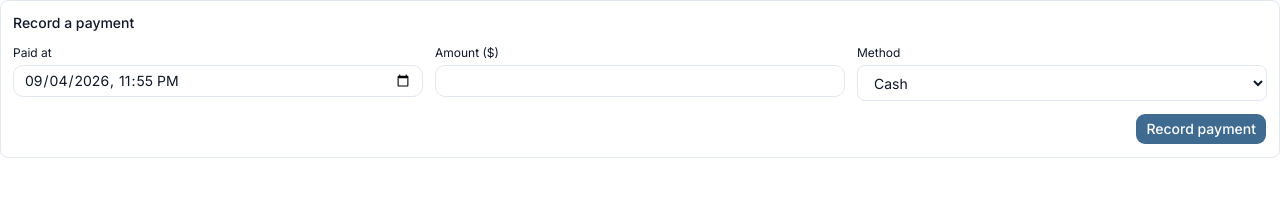
Test: RecordBhphPaymentForm › blocks submit when amount is zero
Type "0" into the number field with test id "record-bhph-payment-amount" at (640, 81), box x1=435 y1=65 x2=845 y2=97
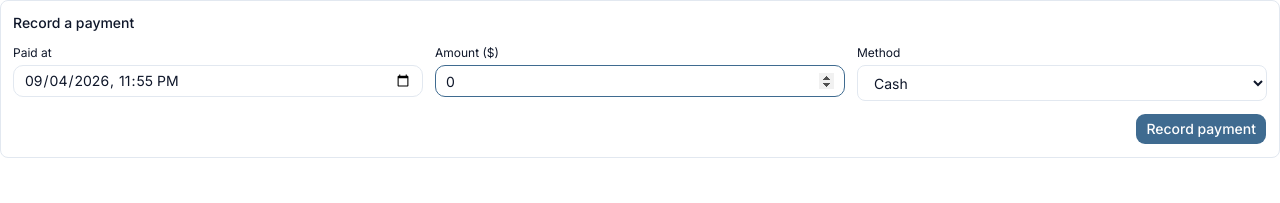
Click the button with test id "record-bhph-payment-submit" at (1201, 129), box x1=1135 y1=113 x2=1267 y2=145
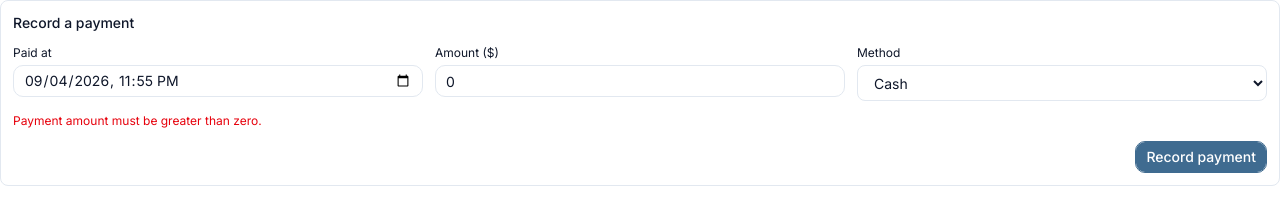
Expected: the message "Payment amount must be greater than zero." is shown, x1=13 y1=113 x2=262 y2=128
